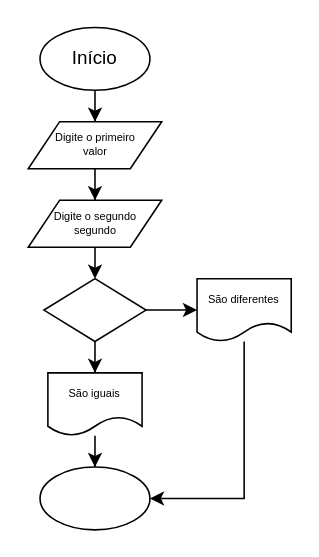
Some shapes in this 319 by 557 pixel diagram are drawn without their labels. Here are the shapes that lost their labels. From the top down, the centre of each, then its label:
point 94,309: valor1 igual valor2
point 94,498: Fim
